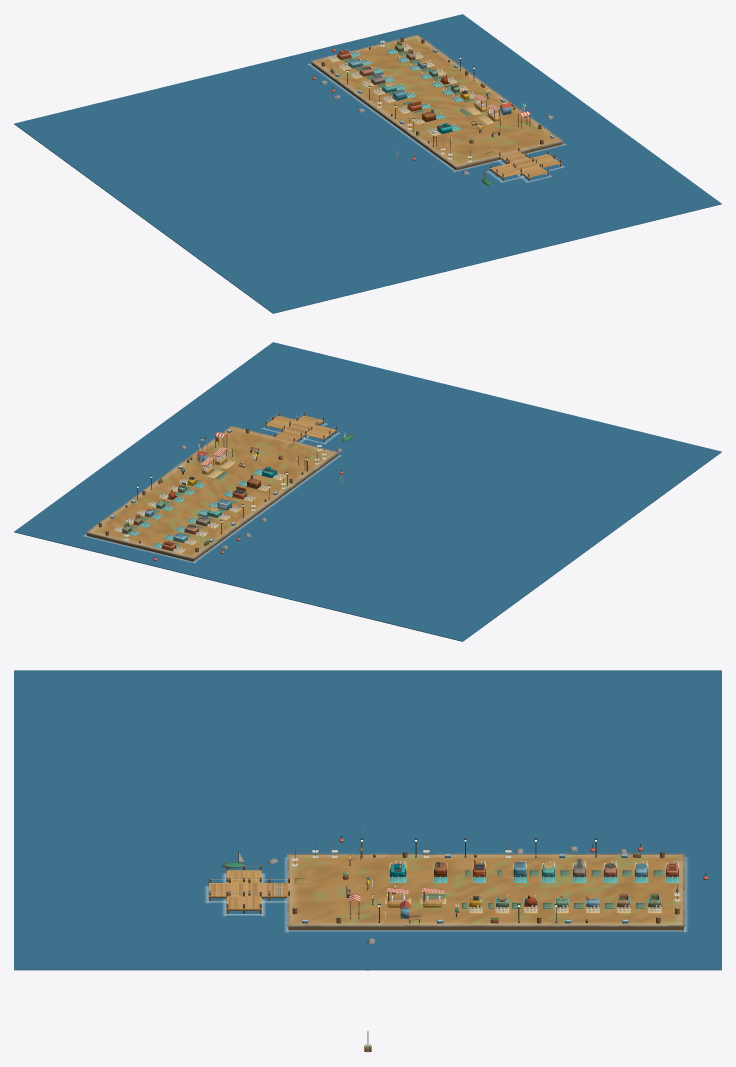
The model's file is saffron_quay_blockout.glb.
3 renders of one model, top to bottom at view 1: azimuth 30°, elevation 25°; view 2: azimuth 150°, elevation 25°; view 3: azimuth 270°, elevation 25°, orthographic. The views are drawn at different scales.
Visible parts, largest first — view 1: Water, Ground_sf_land, Ground_sf_pier, Foam; view 2: Water, Ground_sf_land, Ground_sf_pier, Foam; view 3: Water, Ground_sf_land, Foam, Ground_sf_pier, Ground_sf_east_dock.
Boxes of the visible parts, box(x1,y1,x2,y2) form: Water: box(14, 14, 721, 313); Ground_sf_land: box(310, 35, 563, 170); Ground_sf_pier: box(499, 147, 548, 180); Foam: box(307, 63, 566, 182); Water: box(14, 342, 721, 641); Ground_sf_land: box(86, 426, 338, 561); Ground_sf_pier: box(274, 412, 324, 442); Foam: box(83, 423, 341, 562); Water: box(14, 670, 721, 970); Ground_sf_land: box(287, 853, 685, 930); Foam: box(205, 857, 687, 932); Ground_sf_pier: box(208, 878, 289, 900); Ground_sf_east_dock: box(226, 891, 261, 913).
Bounding box in the file's own units: 80 × 22.73 × 80.
